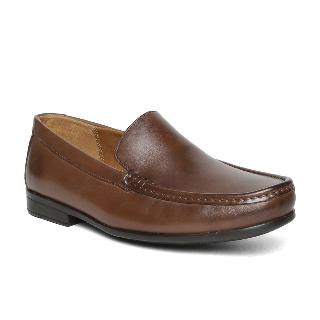loafers: (22, 106, 298, 252)
